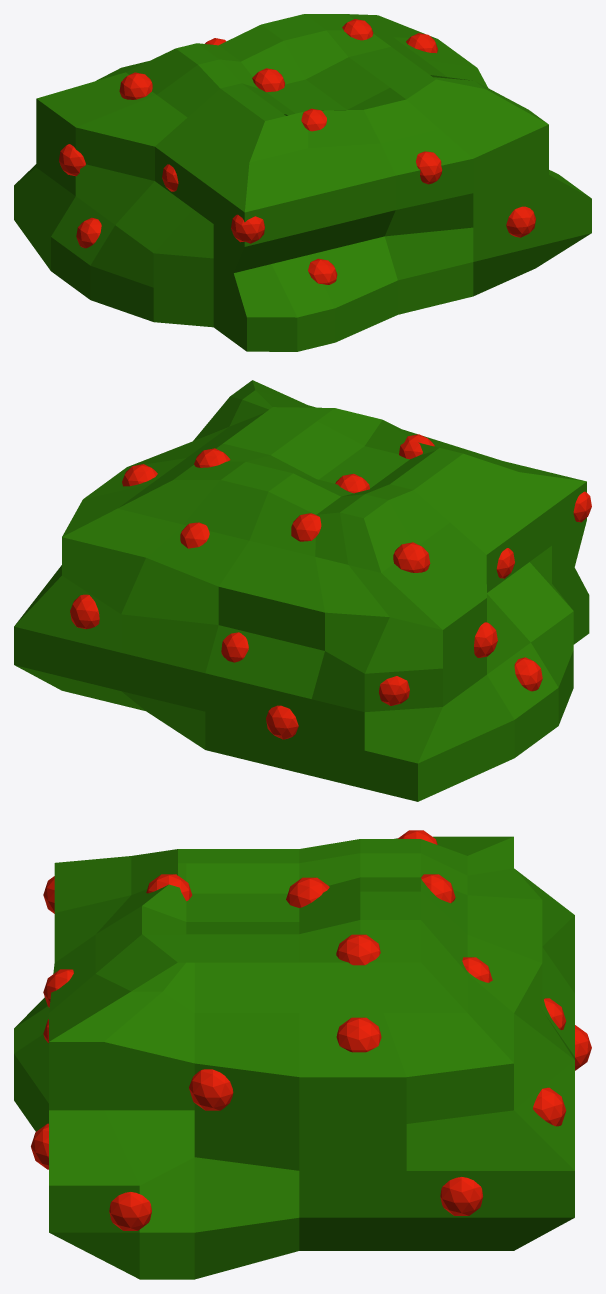
Rendered from r bush.fbx.
3 views of the same model, one above another, from view 1: azimuth 30°, elevation 25°; view 2: azimuth 150°, elevation 25°; view 3: azimuth 270°, elevation 25° (orthographic). The views are drawn at different scales.
Parts seen in each view (by area): view 1: Cube, Icosphere.001; view 2: Cube, Icosphere.001; view 3: Cube, Icosphere.001.
Boxes of the visible parts, x1=… form: Cube: x1=14, y1=14, x2=591, y2=351; Icosphere.001: x1=59, y1=19, x2=535, y2=284; Cube: x1=14, y1=380, x2=589, y2=801; Icosphere.001: x1=70, y1=434, x2=591, y2=739; Cube: x1=14, y1=836, x2=574, y2=1279; Icosphere.001: x1=31, y1=830, x2=591, y2=1230.
Size of the model in its own units: 636 by 281 by 559.
